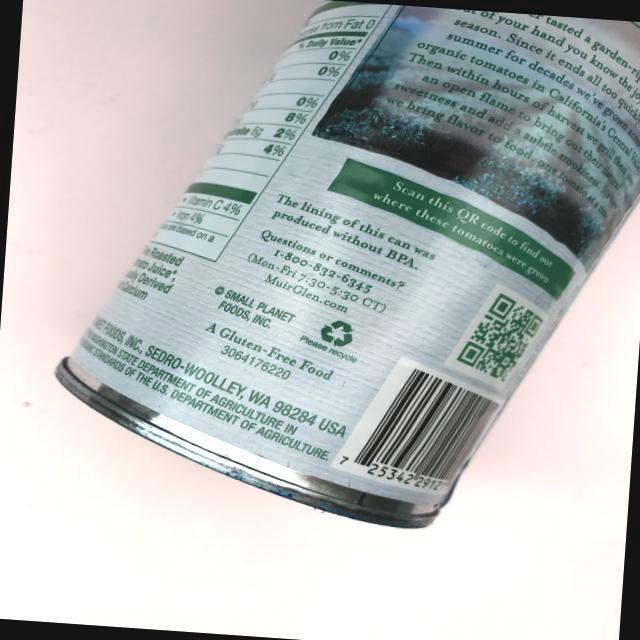metal: (25, 0, 640, 552)
